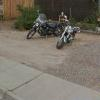Motorcycle: (21, 10, 83, 52)
